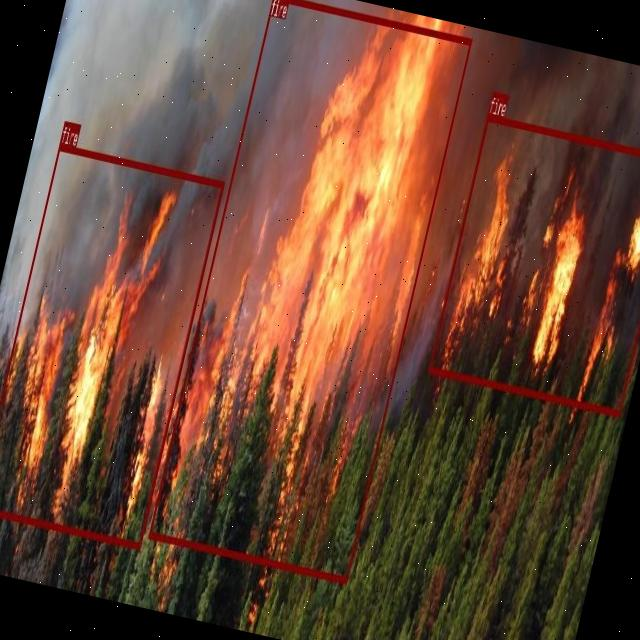fire: (147, 0, 471, 582), (0, 142, 224, 547), (427, 113, 640, 415)
